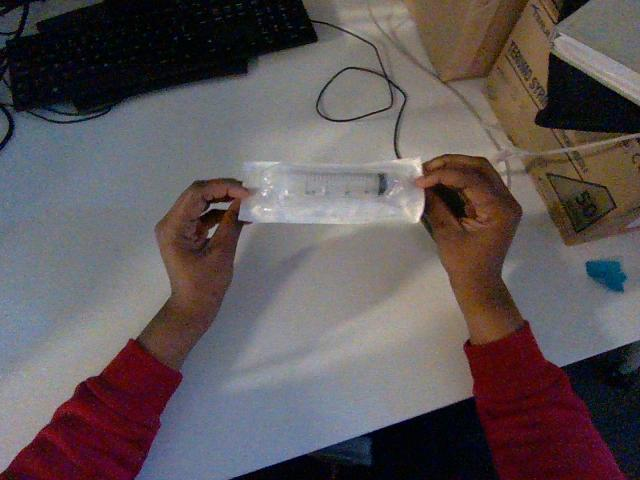syringe: (239, 158, 424, 223)
